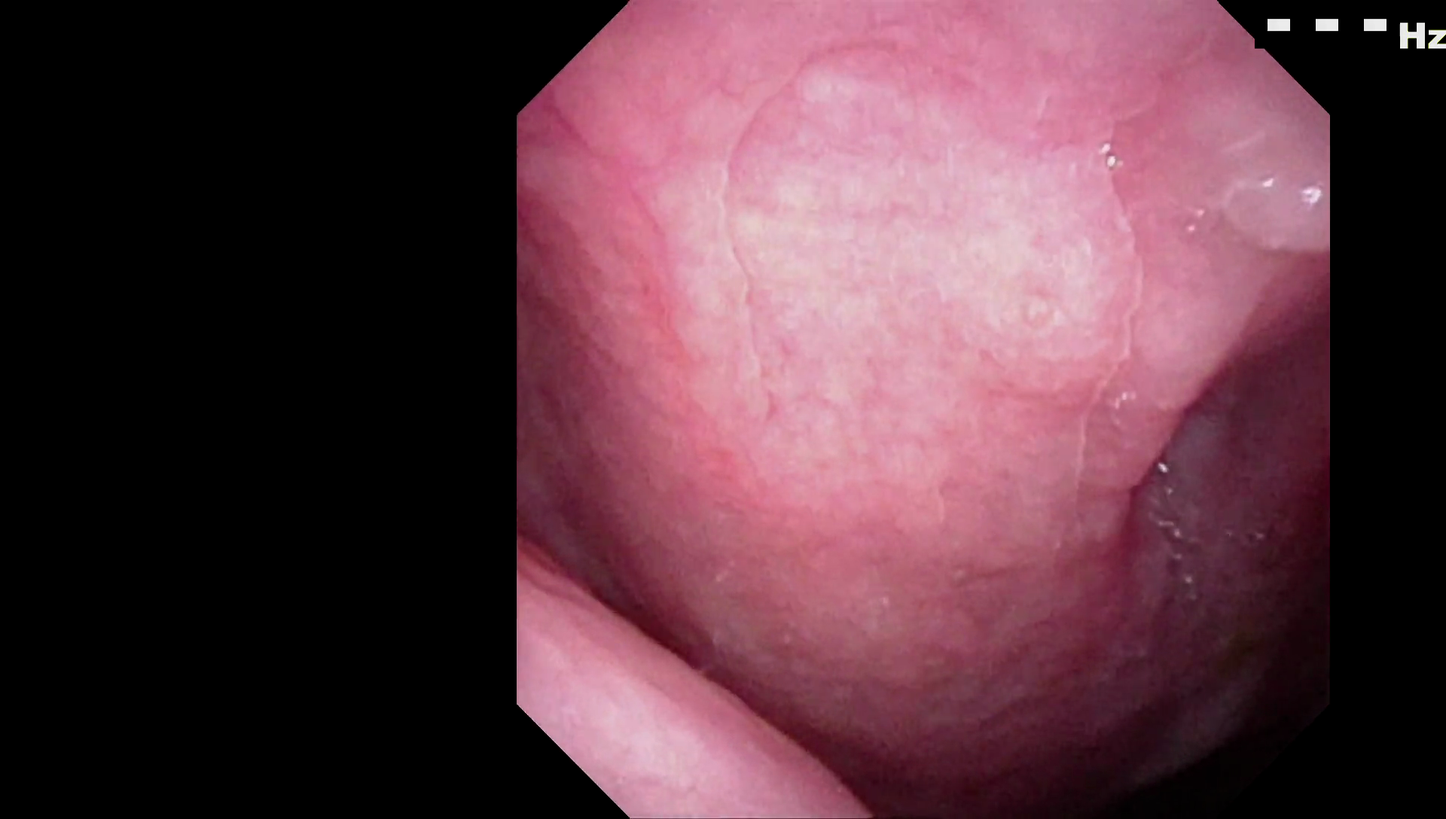close_wall: (633, 43, 1175, 534), (524, 546, 845, 819)
next: (1074, 644, 1329, 797)
